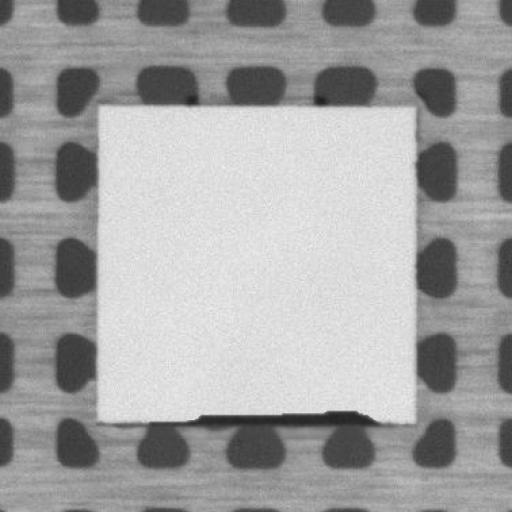DIE_BROKEN: (141, 401, 387, 427)
